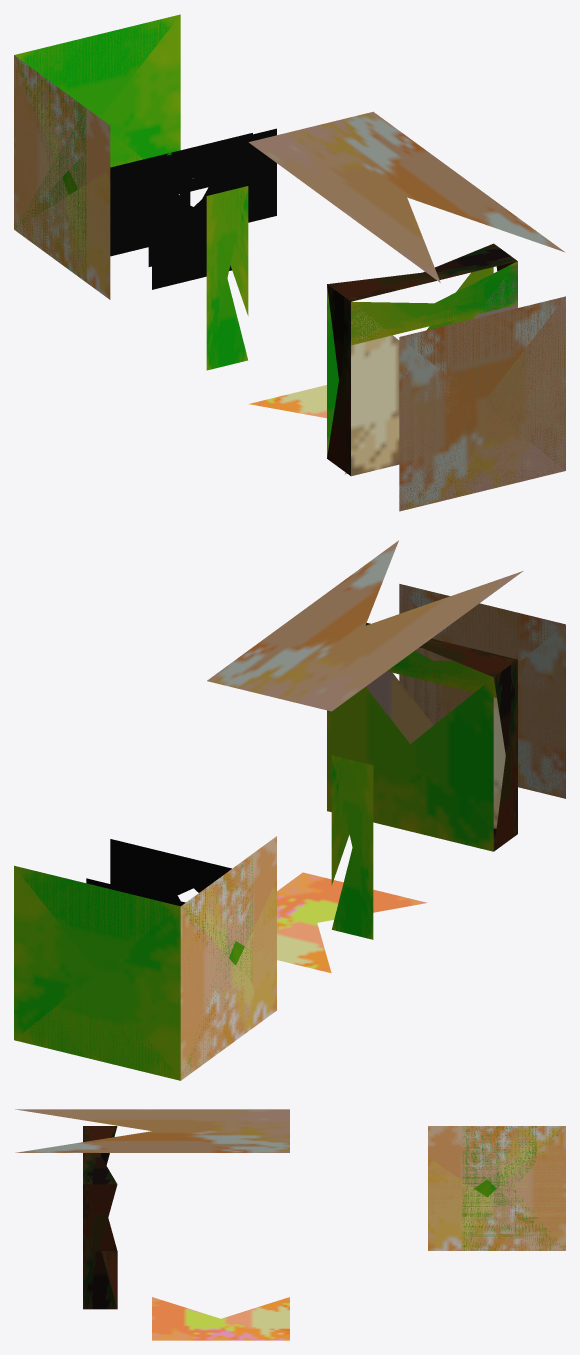
The model's file is town_geometry_type_34.obj.
3 renders of one model, top to bottom at view 1: azimuth 30°, elevation 25°; view 2: azimuth 150°, elevation 25°; view 3: azimuth 270°, elevation 25°, orthographic. The views are drawn at different scales.
Parts seen in each view (by area): view 1: face_list_000, face_list_036, face_list_008, face_list_024, face_list_021, face_list_028, face_list_026, face_list_010, face_list_038, face_list_014, face_list_002, face_list_025 (+5 smaller); view 2: face_list_021, face_list_024, face_list_036, face_list_026, face_list_008, face_list_000, face_list_010, face_list_028, face_list_025, face_list_014, face_list_038, face_list_015 (+5 smaller); view 3: face_list_036, face_list_008, face_list_010, face_list_024, face_list_023, face_list_021.
Part boxes in pixels (left/top/right/bottom): face_list_000: left=399, top=297, right=565, bottom=511; face_list_036: left=248, top=111, right=565, bottom=474; face_list_008: left=14, top=57, right=565, bottom=510; face_list_024: left=14, top=14, right=180, bottom=281; face_list_021: left=327, top=243, right=517, bottom=475; face_list_028: left=399, top=296, right=565, bottom=509; face_list_026: left=16, top=15, right=180, bottom=166; face_list_010: left=14, top=55, right=546, bottom=509; face_list_038: left=351, top=264, right=517, bottom=476; face_list_014: left=152, top=128, right=276, bottom=245; face_list_002: left=148, top=141, right=235, bottom=289; face_list_025: left=206, top=186, right=247, bottom=370; face_list_021: left=327, top=623, right=517, bottom=851; face_list_024: left=14, top=854, right=252, bottom=1080; face_list_036: left=207, top=540, right=523, bottom=973; face_list_026: left=14, top=865, right=179, bottom=1079; face_list_008: left=180, top=590, right=565, bottom=1080; face_list_000: left=399, top=584, right=565, bottom=798; face_list_010: left=180, top=776, right=565, bottom=1080; face_list_028: left=399, top=584, right=565, bottom=796; face_list_025: left=332, top=755, right=373, bottom=939; face_list_014: left=86, top=839, right=231, bottom=904; face_list_038: left=366, top=670, right=505, bottom=828; face_list_015: left=399, top=584, right=563, bottom=724; face_list_036: left=15, top=1109, right=289, bottom=1340; face_list_008: left=428, top=1126, right=565, bottom=1250; face_list_010: left=428, top=1126, right=565, bottom=1247; face_list_024: left=462, top=1126, right=564, bottom=1250; face_list_023: left=83, top=1184, right=117, bottom=1309; face_list_021: left=83, top=1126, right=117, bottom=1308.
Bounding box in the file's own units: 64 × 96 × 256.
Materials: 20 (20 with a texture image).
